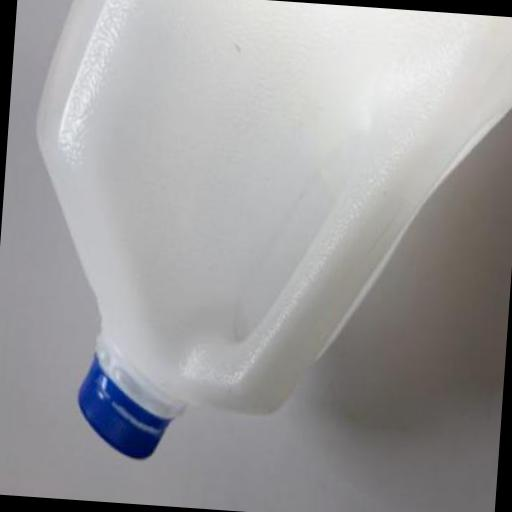plastic: (11, 0, 512, 483), (72, 350, 178, 460)
